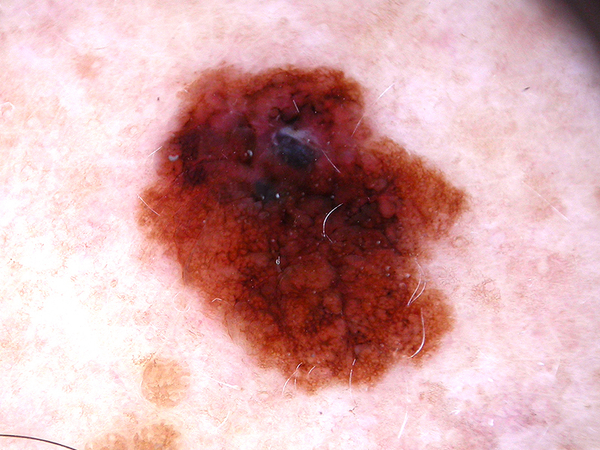Detected Lesion: (132, 59, 471, 395)
